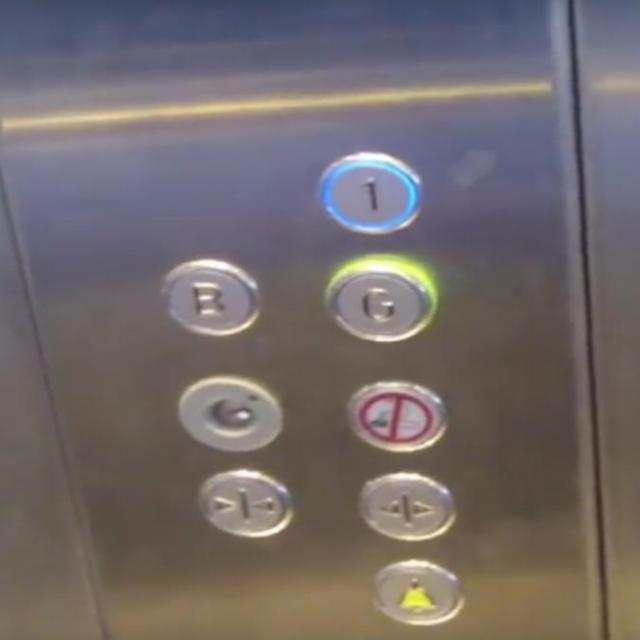1: (310, 148, 430, 237)
B: (153, 254, 265, 340)
G: (319, 250, 441, 346)
alarm: (364, 554, 468, 630)
close: (190, 465, 298, 541)
keyhole: (170, 371, 290, 456)
open: (352, 468, 461, 544)
unknown: (339, 377, 451, 455)
